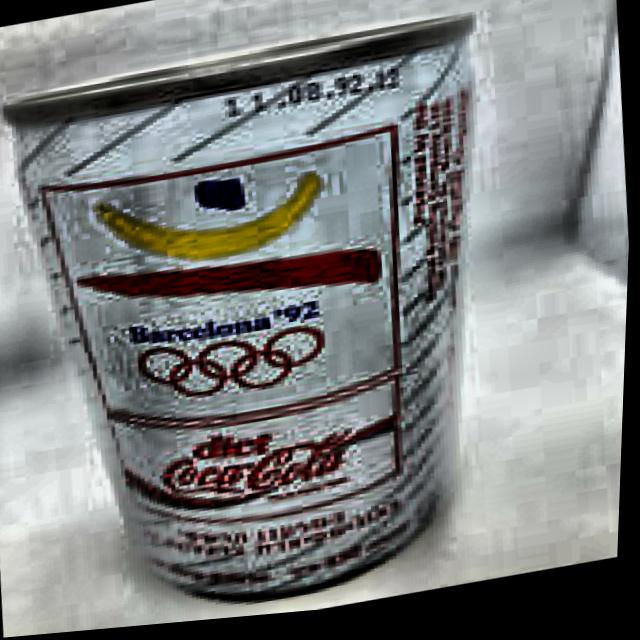Cans: (0, 0, 529, 640)
